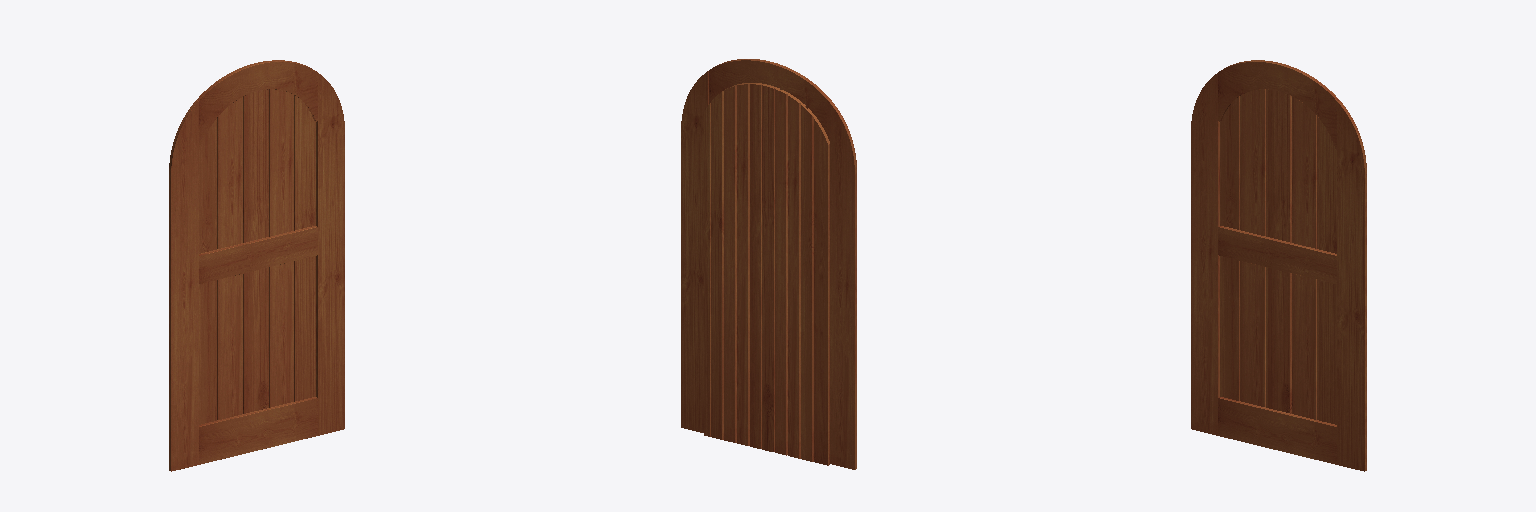
The picture shows the model from 3 angles: view 1: azimuth 30°, elevation 25°; view 2: azimuth 150°, elevation 25°; view 3: azimuth 330°, elevation 25°; orthographic projection.
Visible parts, largest first — view 1: trim_top, trim_left, trim_right, bottom, trim_top001, middle; view 2: trim_top, trim_left, trim_right, trim_top001; view 3: trim_top, trim_right, trim_left, bottom, trim_top001, middle.
Part boxes in pixels (left/top/right/bottom): trim_top: left=199, top=89, right=315, bottom=424; trim_left: left=169, top=100, right=198, bottom=471; trim_right: left=316, top=73, right=344, bottom=435; bottom: left=199, top=397, right=317, bottom=464; trim_top001: left=197, top=60, right=317, bottom=149; middle: left=199, top=226, right=317, bottom=283; trim_top: left=704, top=83, right=829, bottom=465; trim_left: left=827, top=98, right=856, bottom=469; trim_right: left=681, top=71, right=708, bottom=432; trim_top001: left=709, top=59, right=828, bottom=133; trim_top: left=1220, top=89, right=1336, bottom=424; trim_right: left=1337, top=100, right=1366, bottom=471; trim_left: left=1191, top=73, right=1219, bottom=435; bottom: left=1218, top=397, right=1336, bottom=464; trim_top001: left=1218, top=60, right=1338, bottom=149; middle: left=1218, top=226, right=1336, bottom=283.
Size of the model in its own units: 34 by 71.99 by 1.47.
6 materials, 6 textured.